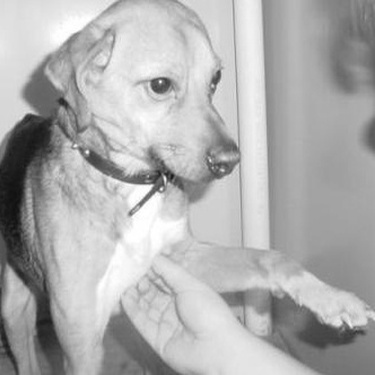dog: (1, 4, 372, 371)
